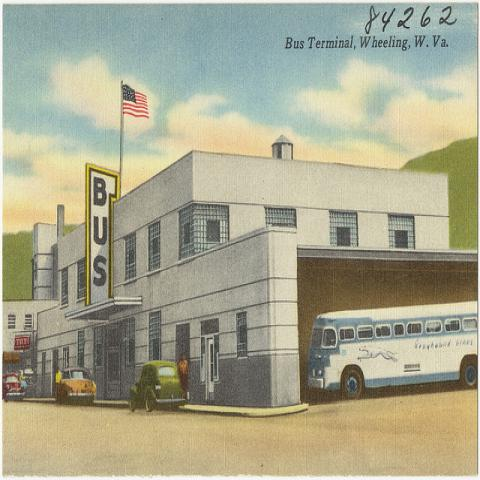bus: (306, 300, 478, 400)
car: (128, 358, 186, 412), (54, 367, 98, 406), (4, 371, 24, 402)
